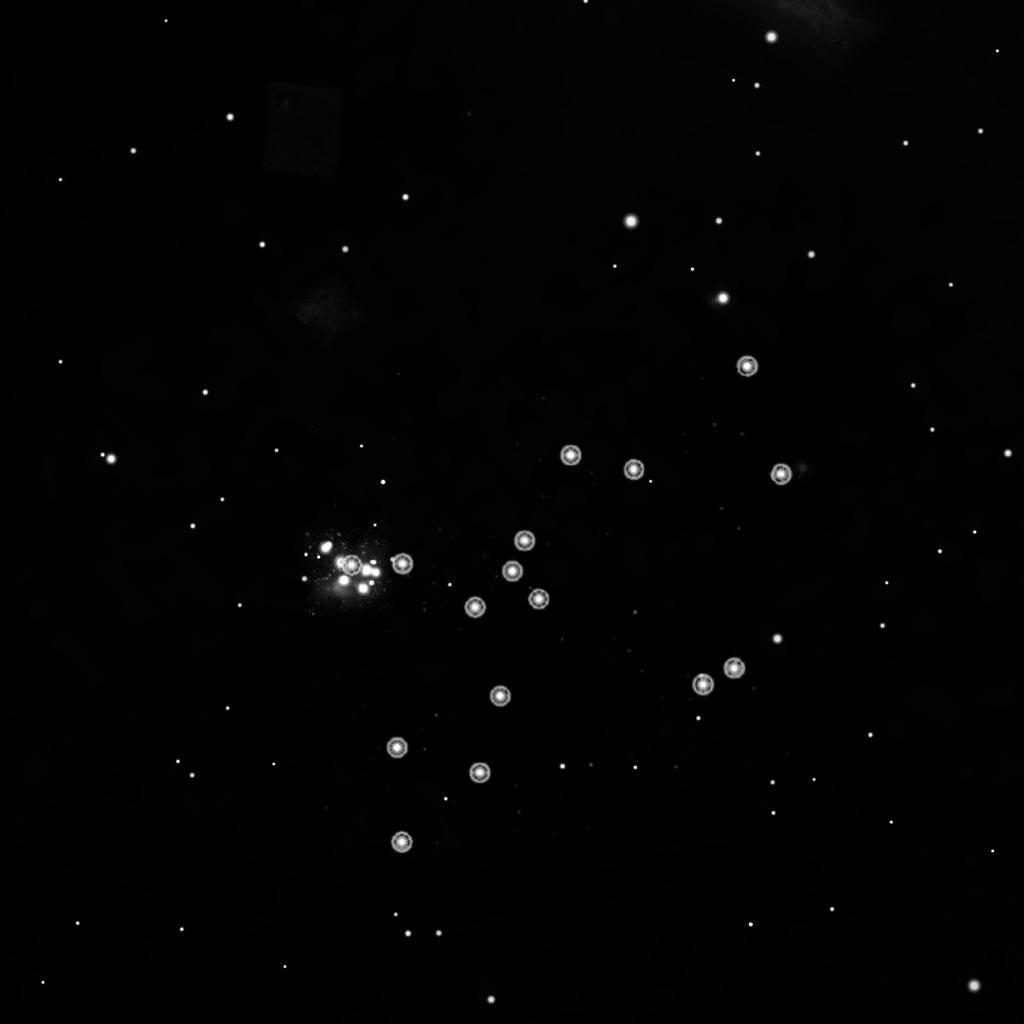canis_major: (461, 442, 649, 625)
